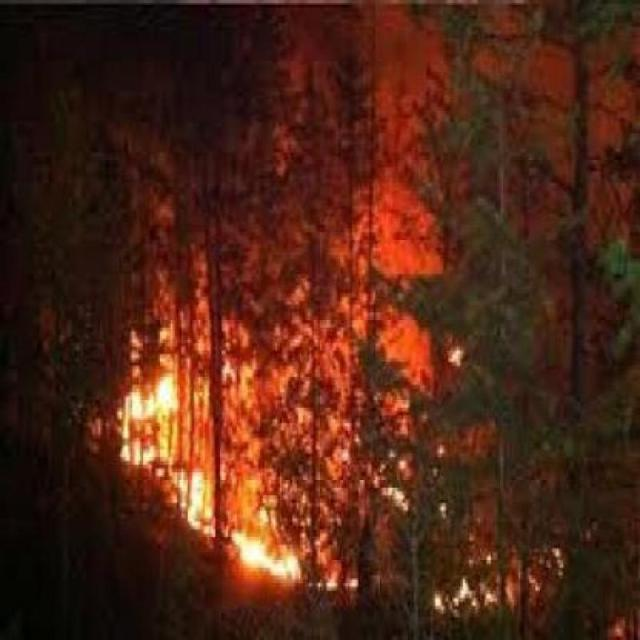Fire: (78, 176, 640, 639)
